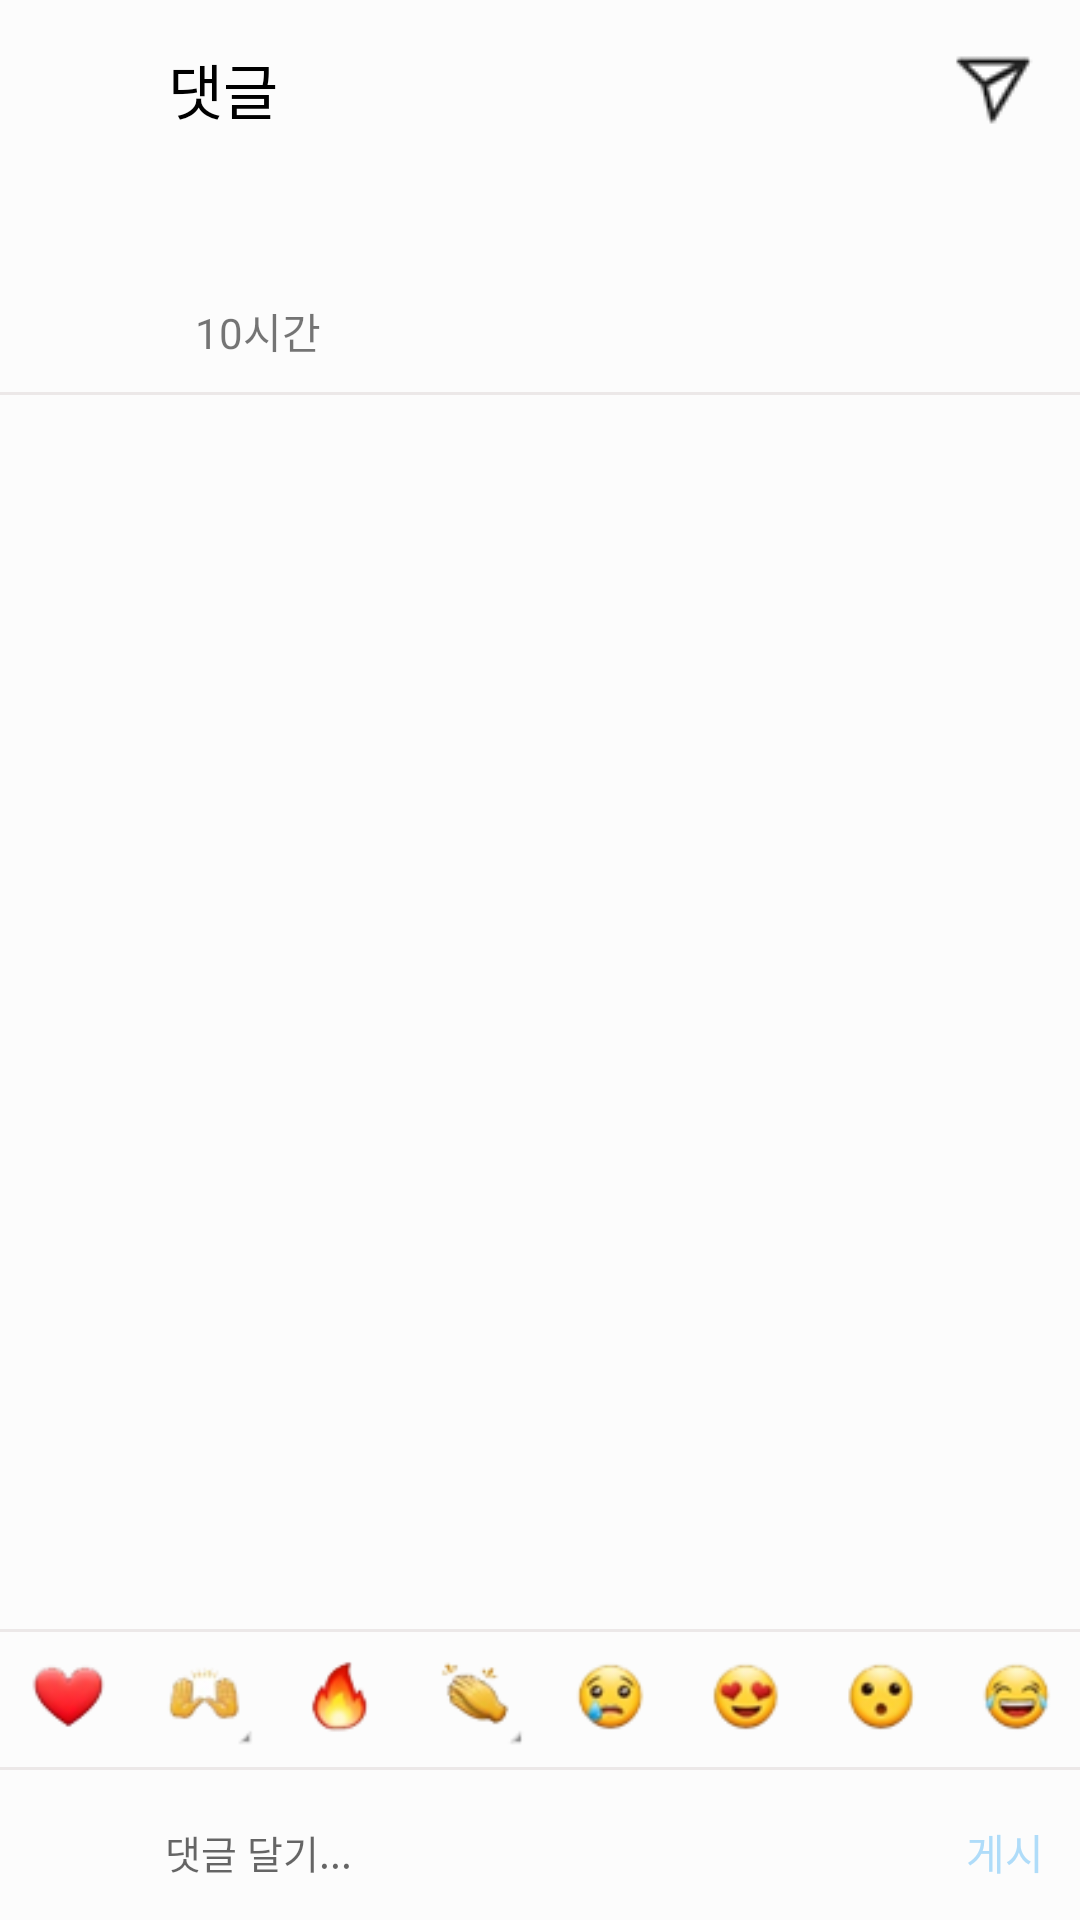

Screen size 1080 × 1920. Icon name, then its box in pixels as (x1=x1, y1=y1, x2=x2, y2=y2):
direct: (x1=956, y1=56, x2=1030, y2=124)
